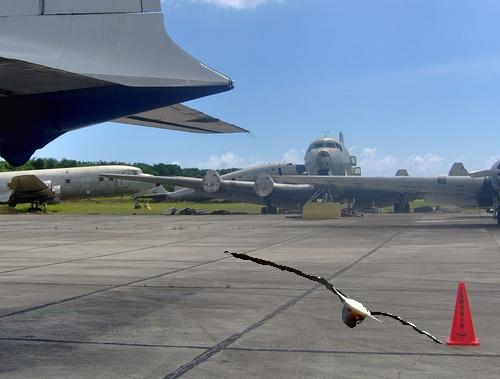tampered: (225, 252, 442, 344)
